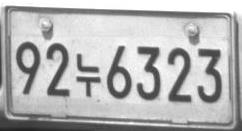2: (45, 42, 70, 96), (167, 47, 191, 103)
3: (135, 45, 161, 100), (197, 47, 222, 104)
6: (106, 45, 132, 99)
9: (15, 40, 41, 95)
누: (75, 53, 101, 97)
